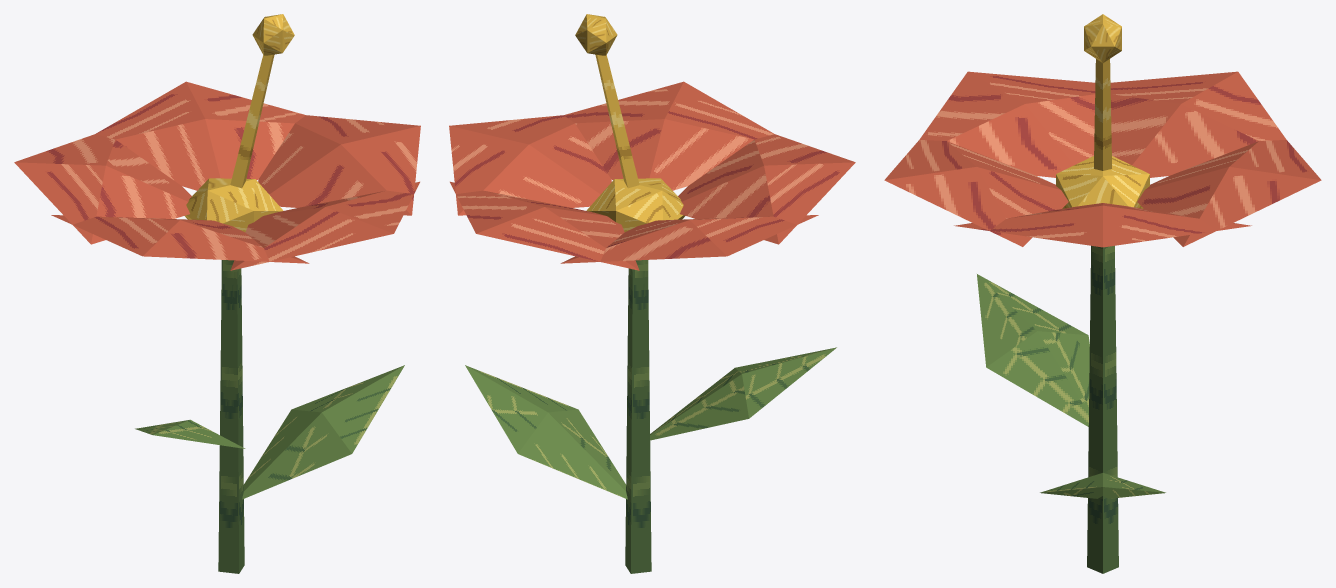
Rendered from flor-hibisco-v01.gltf.
3 renders of one model, left to right at view 1: azimuth 30°, elevation 25°; view 2: azimuth 150°, elevation 25°; view 3: azimuth 270°, elevation 25°, orthographic. The views are drawn at different scales.
Visible parts, largest first — view 1: petalas, folhas, hastes, miolo, estame; view 2: petalas, folhas, hastes, miolo, estame; view 3: petalas, folhas, hastes, miolo, estame.
Boxes of the visible parts, bbox=[...] form: petalas: bbox=[14, 81, 420, 270]; folhas: bbox=[135, 365, 404, 499]; hastes: bbox=[218, 260, 244, 573]; miolo: bbox=[185, 178, 283, 231]; estame: bbox=[230, 14, 294, 188]; petalas: bbox=[449, 81, 855, 270]; folhas: bbox=[465, 347, 836, 499]; hastes: bbox=[625, 260, 651, 573]; miolo: bbox=[586, 178, 684, 231]; estame: bbox=[575, 14, 639, 188]; petalas: bbox=[884, 71, 1321, 247]; folhas: bbox=[977, 274, 1165, 498]; hastes: bbox=[1087, 245, 1118, 573]; miolo: bbox=[1056, 156, 1149, 208]; estame: bbox=[1084, 14, 1121, 170].
Bounding box in the file's own units: 0.6658 × 0.984 × 0.6848.
1 material, 1 textured.
